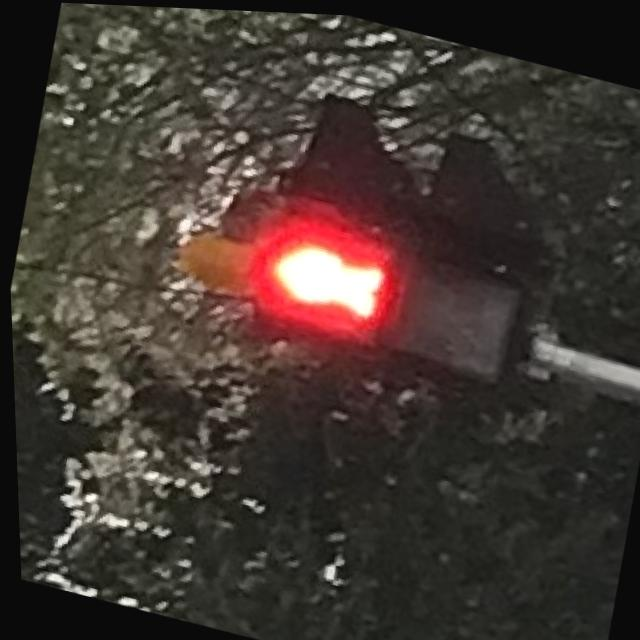red_light: (239, 195, 409, 344)
